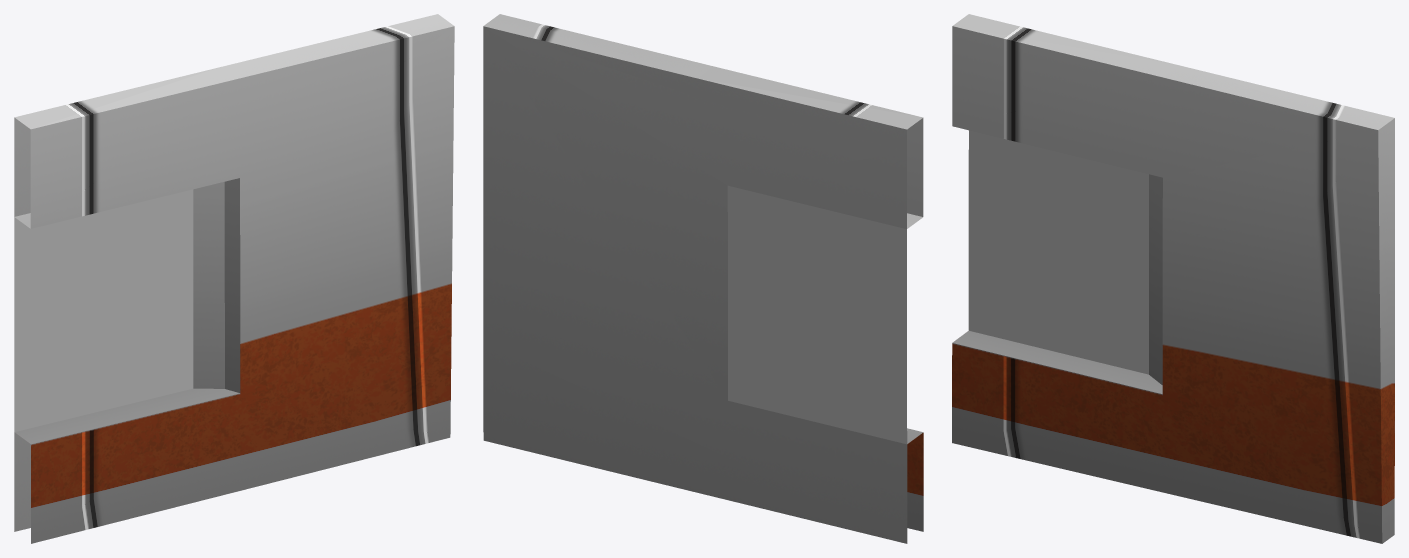
The model's file is Wall Left.fbx.
3 renders of one model, left to right at view 1: azimuth 30°, elevation 25°; view 2: azimuth 150°, elevation 25°; view 3: azimuth 330°, elevation 25°, orthographic.
Parts seen in each view (by area): view 1: Door_Door_Door_Door_Door_Door_Door_Door_Window_Side1_Window_; view 2: Door_Door_Door_Door_Door_Door_Door_Door_Window_Side1_Window_; view 3: Door_Door_Door_Door_Door_Door_Door_Door_Window_Side1_Window_.
Boxes of the visible parts, x1,y1,x2,y2 form: Door_Door_Door_Door_Door_Door_Door_Door_Window_Side1_Window_: (14, 14, 454, 543); Door_Door_Door_Door_Door_Door_Door_Door_Window_Side1_Window_: (483, 14, 923, 543); Door_Door_Door_Door_Door_Door_Door_Door_Window_Side1_Window_: (952, 14, 1394, 543).
Size of the model in its own units: 1028 by 961 by 70.41.
2 materials, 1 textured.
